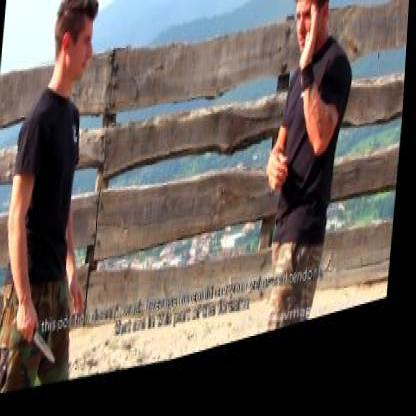knife: (13, 303, 66, 383)
